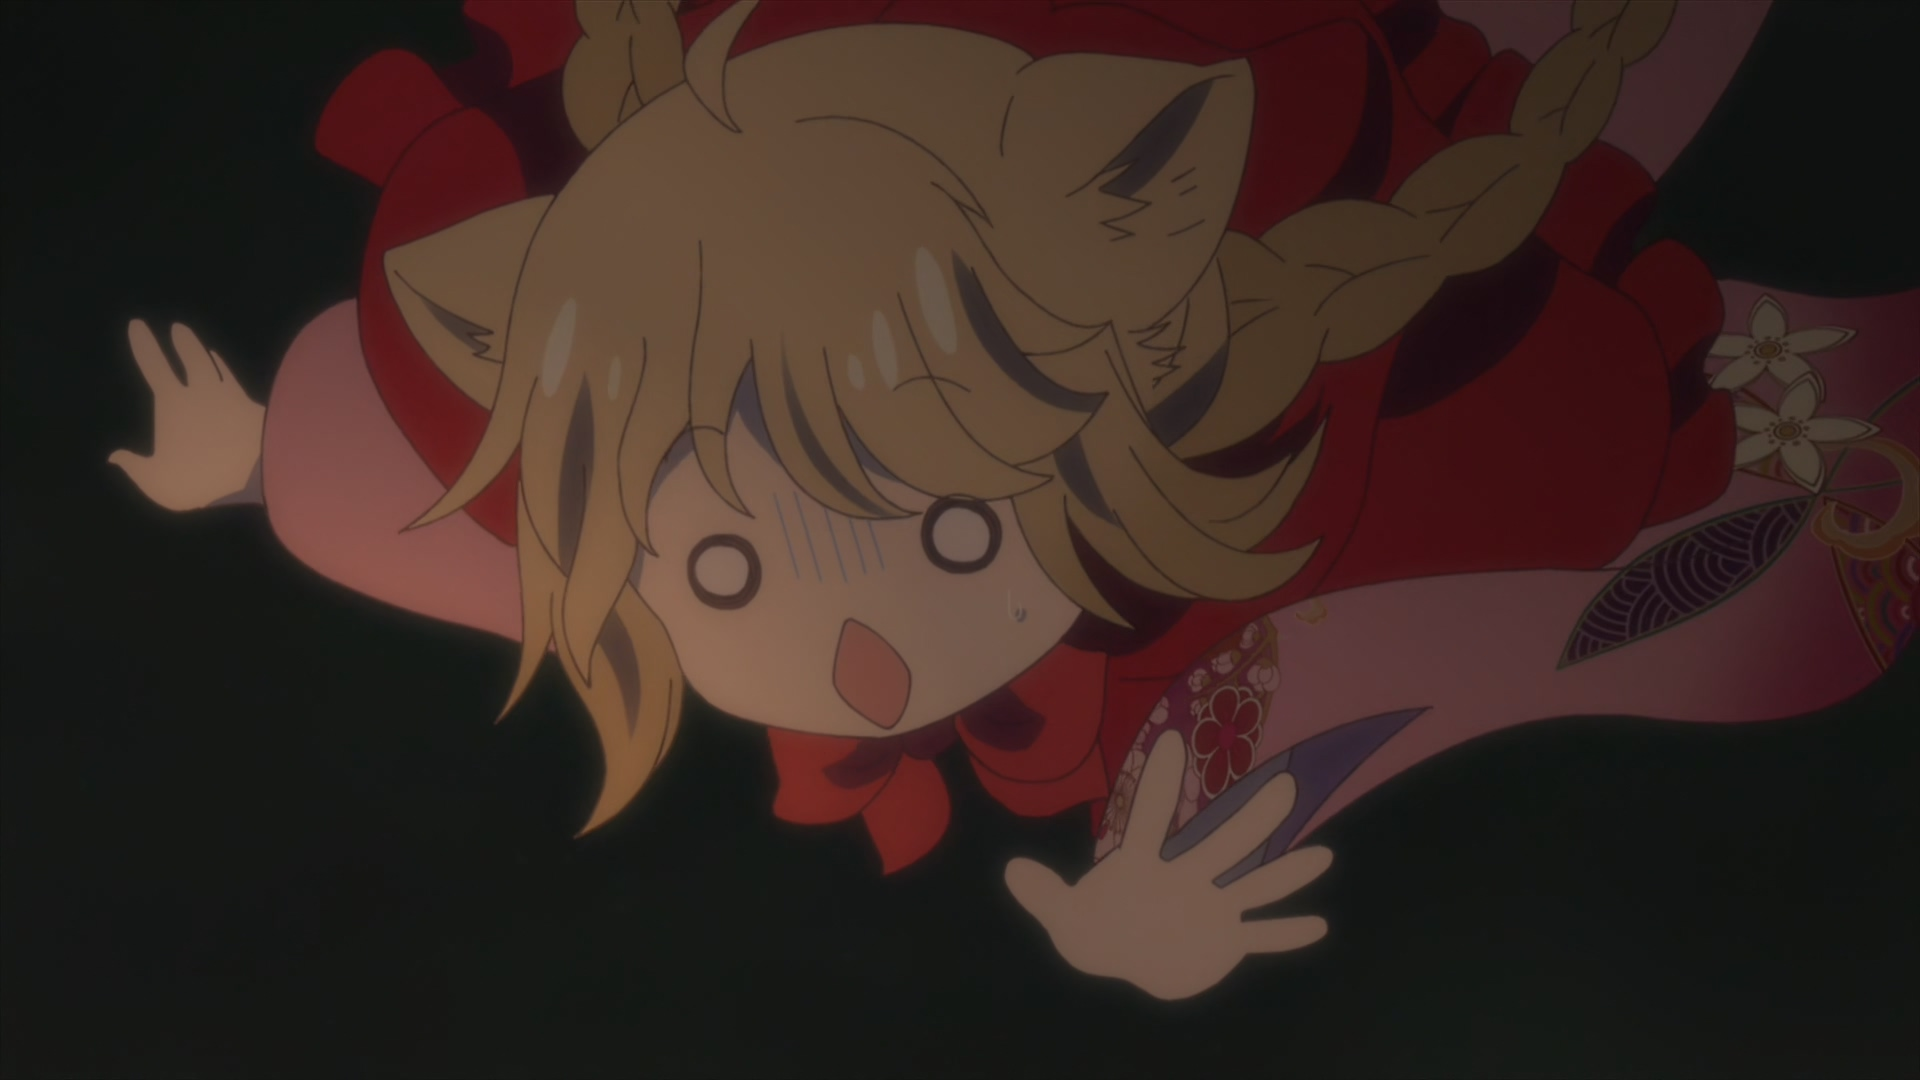柚: (108, 1, 1920, 1005)
